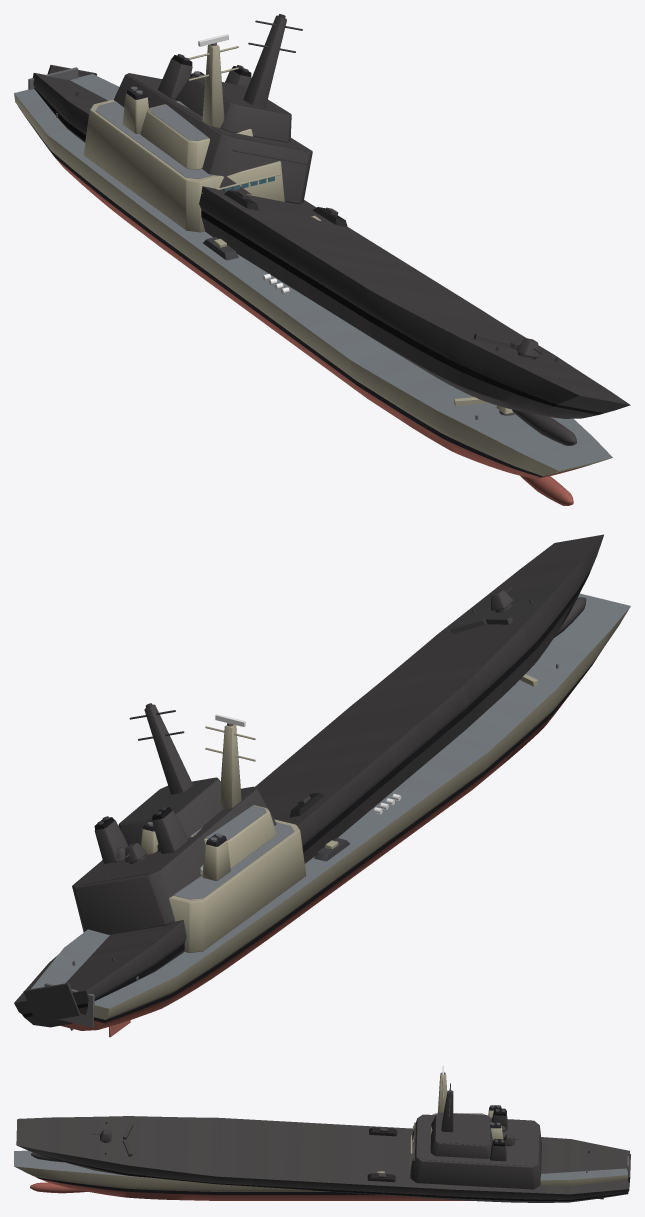
The model's file is landingShip__gojunbong_class.glb.
3 views of the same model, one above another, from view 1: azimuth 30°, elevation 25°; view 2: azimuth 150°, elevation 25°; view 3: azimuth 270°, elevation 25° (orthographic). The views are drawn at different scales.
Visible parts, largest first — view 1: Wreck, Hull_Mesh; view 2: Wreck, Hull_Mesh; view 3: Wreck, Hull_Mesh.
Boxes of the visible parts, x1,y1,x2,y2 form: Wreck: [32, 14, 630, 445]; Hull_Mesh: [14, 44, 612, 505]; Wreck: [14, 534, 603, 1030]; Hull_Mesh: [31, 593, 630, 1037]; Wreck: [16, 1083, 630, 1202]; Hull_Mesh: [14, 1073, 628, 1200].
Size of what is drawn, in the model's own units: 19.75 by 26.24 by 118.
